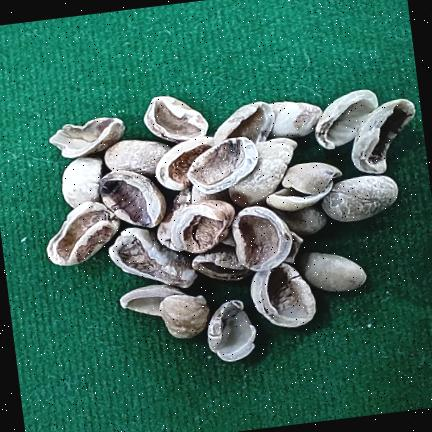shell: (109, 227, 196, 287), (228, 137, 297, 207), (351, 99, 415, 173), (47, 201, 119, 265), (250, 263, 315, 327), (187, 136, 258, 194), (232, 205, 292, 271), (99, 169, 166, 227), (315, 89, 377, 148), (321, 175, 398, 221), (156, 136, 213, 190), (49, 117, 125, 157), (144, 95, 208, 142), (207, 300, 256, 361), (300, 252, 366, 291), (214, 101, 274, 143), (104, 139, 170, 177), (160, 294, 209, 338), (120, 284, 186, 316), (62, 157, 103, 207), (269, 101, 322, 138), (282, 162, 342, 194), (274, 206, 326, 237), (191, 185, 231, 203)
